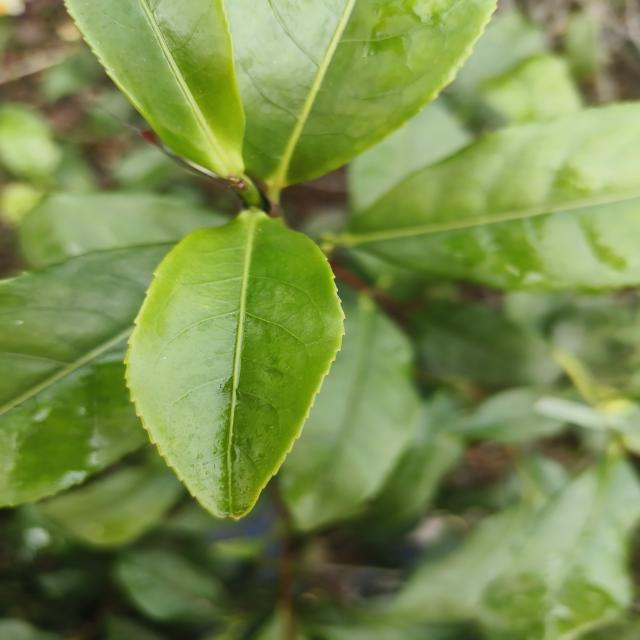Leaf: (125, 209, 344, 518), (346, 102, 640, 290), (225, 0, 495, 195), (0, 243, 172, 505), (278, 282, 420, 530), (66, 0, 245, 178), (480, 445, 640, 640), (386, 505, 534, 622), (18, 192, 227, 268), (412, 302, 559, 388), (37, 463, 183, 547), (115, 548, 222, 622), (0, 104, 61, 180)
